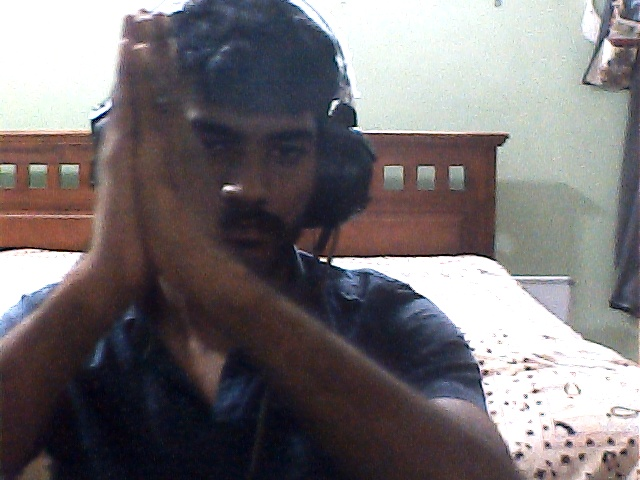Sign: (84, 12, 224, 326)
